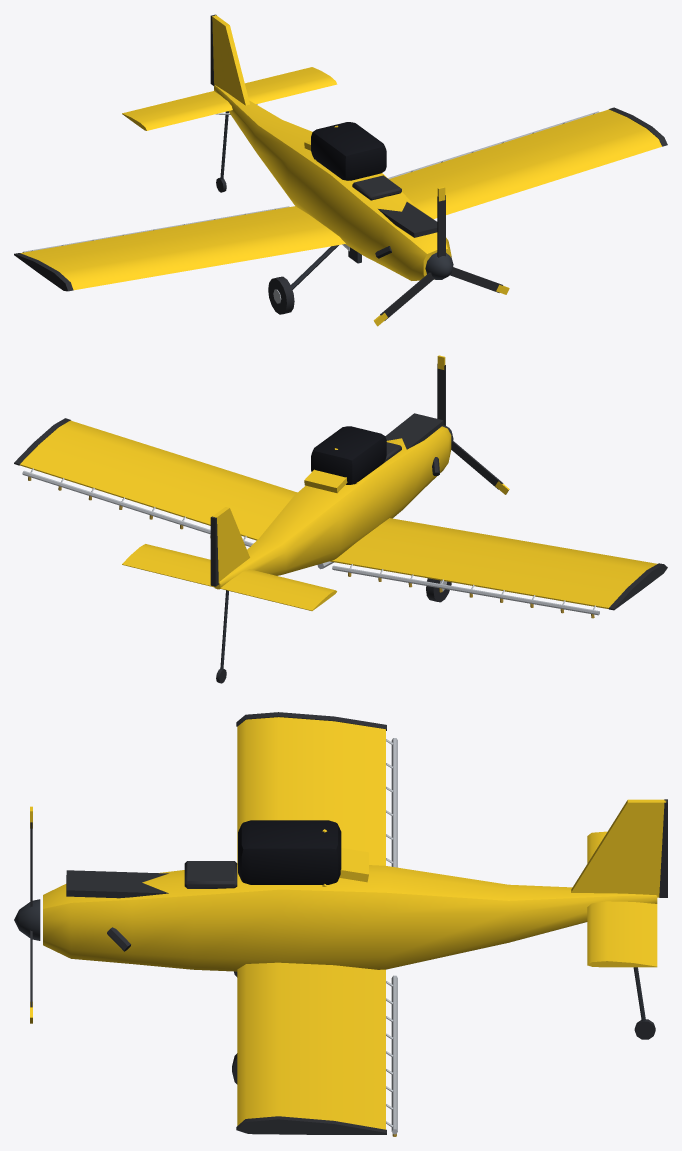
Rendered from crop_duster.glb.
The picture shows the model from 3 angles, top to bottom: view 1: azimuth 30°, elevation 25°; view 2: azimuth 150°, elevation 25°; view 3: azimuth 270°, elevation 25°; orthographic projection. The views are drawn at different scales.
Parts seen in each view (by area): view 1: body, propeller; view 2: body, propeller; view 3: body, propeller.
Part boxes in pixels (box(x1,y1,x2,y2)): body: box(14, 14, 667, 314); propeller: box(373, 187, 509, 326); body: box(14, 413, 667, 683); propeller: box(437, 355, 509, 494); body: box(43, 712, 667, 1136); propeller: box(14, 806, 40, 1023).
Bounding box in the file's own units: 1103 × 299 × 747.
